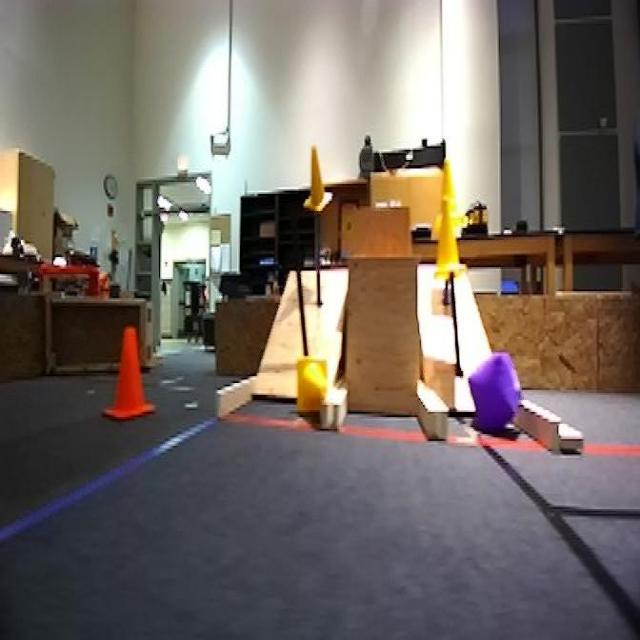frc_cone: (296, 359, 341, 422), (435, 204, 467, 274), (437, 156, 464, 236), (304, 148, 335, 216)
frc_cube: (469, 352, 517, 431)
